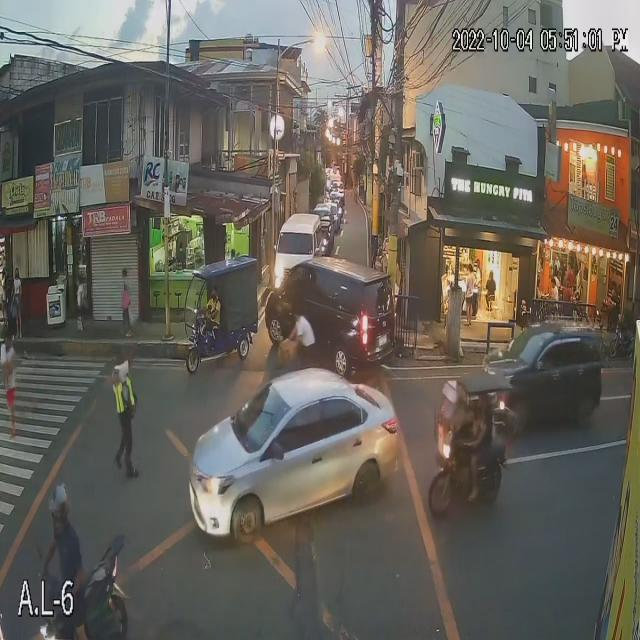helmet: (48, 494, 84, 532)
motorcycle: (36, 581, 126, 640)
rider: (52, 536, 92, 622)
